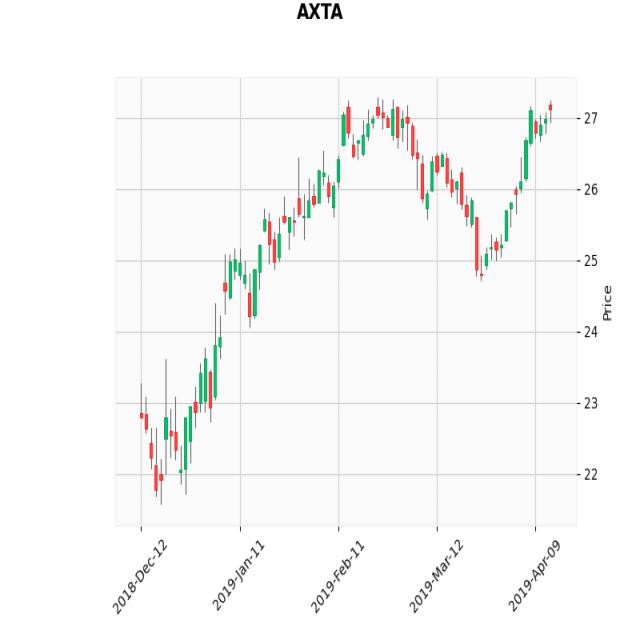Double-Bottom: (137, 399, 199, 510)
